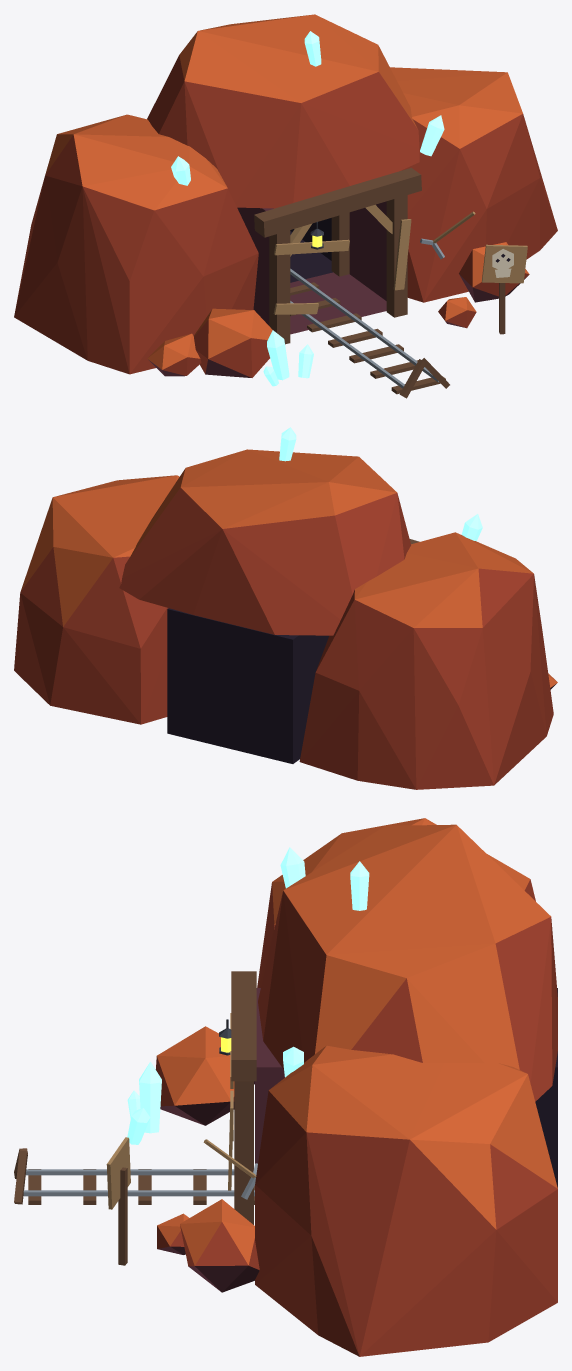
File: Bldg_MineShaft.fbx
3 views of the same model, one above another, from view 1: azimuth 30°, elevation 25°; view 2: azimuth 150°, elevation 25°; view 3: azimuth 270°, elevation 25° (orthographic). The views are drawn at different scales.
Visible parts, largest first — view 1: Bldg_MineShaft_Body, Bldg_MineShaft_Boards; view 2: Bldg_MineShaft_Body; view 3: Bldg_MineShaft_Body.
Part boxes in pixels (x1,y1,x2,y2): Bldg_MineShaft_Body: (14,14,557,398); Bldg_MineShaft_Boards: (273,219,411,314); Bldg_MineShaft_Body: (14,427,557,789); Bldg_MineShaft_Body: (14,818,557,1356).
Bounding box in the file's own units: 13.55 × 6.84 × 9.88.
